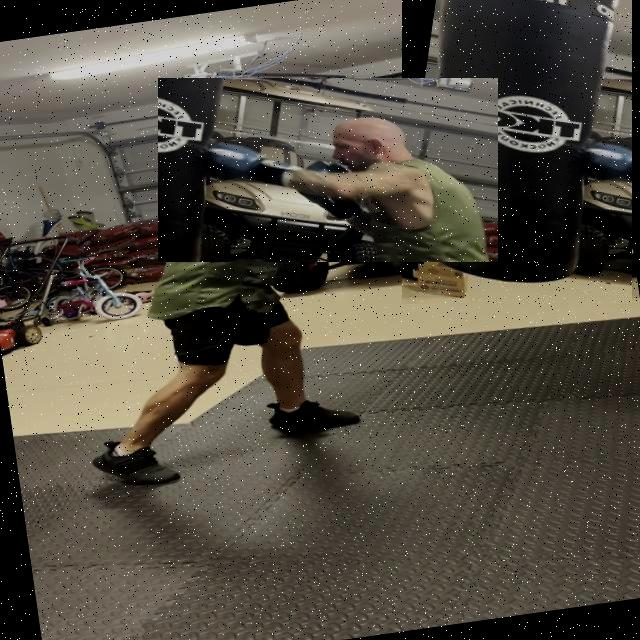punch: (158, 78, 498, 262)
